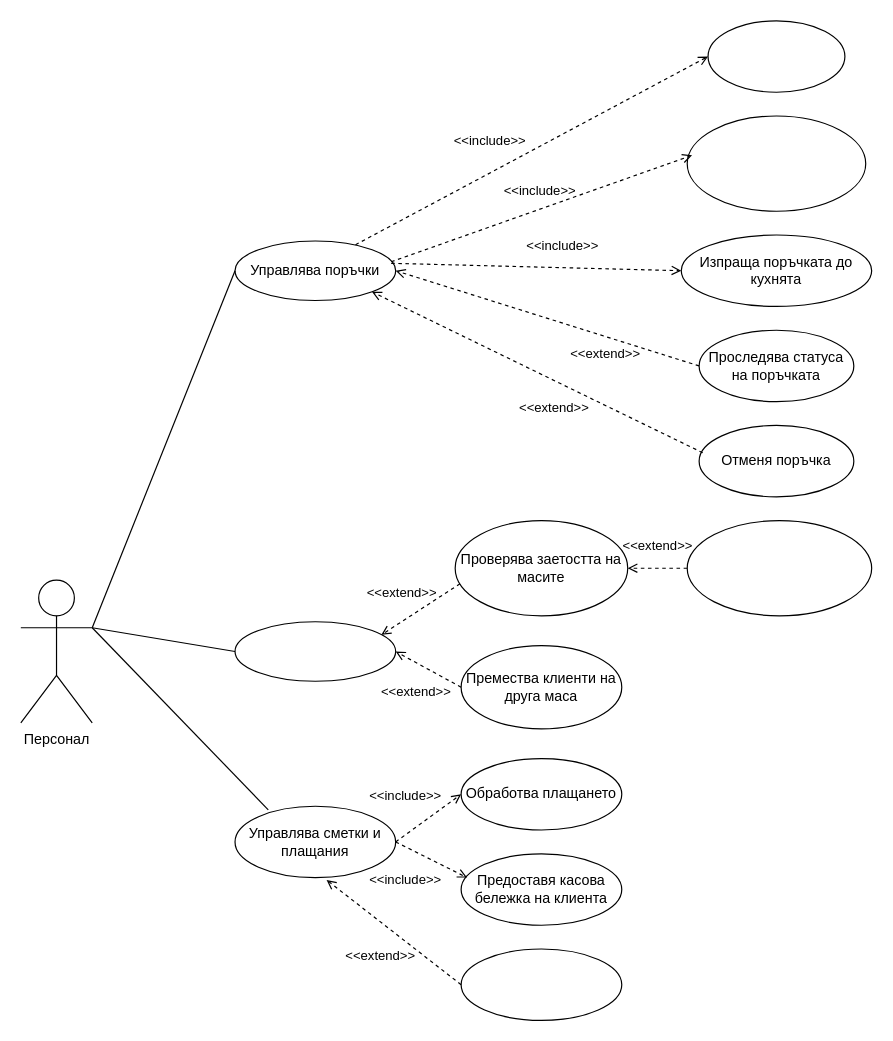
Some shapes in this 893 by 1041 pixel diagram are drawn without their labels. The centre of each missing label's shape, as x and y in pixels:
"Въвежда поръчката в системата" belongs at (x=776, y=163).
"Избира свободна маса за клиента" belongs at (x=779, y=567).
"Приема поръчка от клиента" belongs at (x=776, y=56).
"Прилага отстъпки" belongs at (x=541, y=984).
"Управлява маси" belongs at (x=315, y=651).
